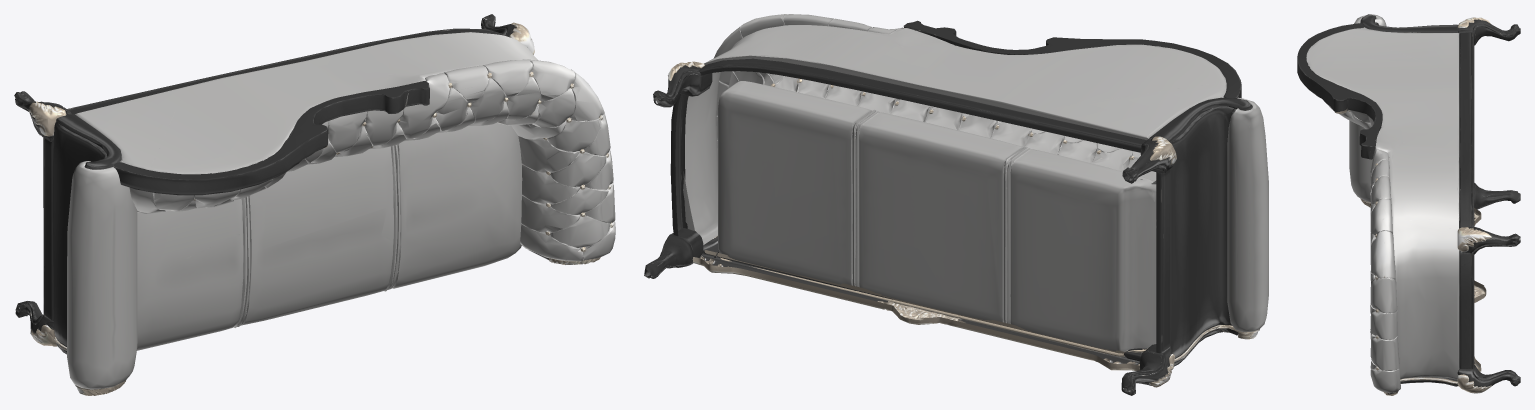
The model's file is raw_model.glb.
The picture shows the model from 3 angles, left to right: view 1: azimuth 30°, elevation 25°; view 2: azimuth 150°, elevation 25°; view 3: azimuth 270°, elevation 25°; orthographic projection. The views are drawn at different scales.
Parts seen in each view (by area): view 1: raw_model.012; view 2: raw_model.012; view 3: raw_model.012.
Part boxes in pixels (x1,y1,x2,y2): raw_model.012: (14,14,615,395); raw_model.012: (644,14,1268,395); raw_model.012: (1297,14,1520,395).
Bounding box in the file's own units: 1.78 × 0.7506 × 0.7918.
1 material, 1 textured.
